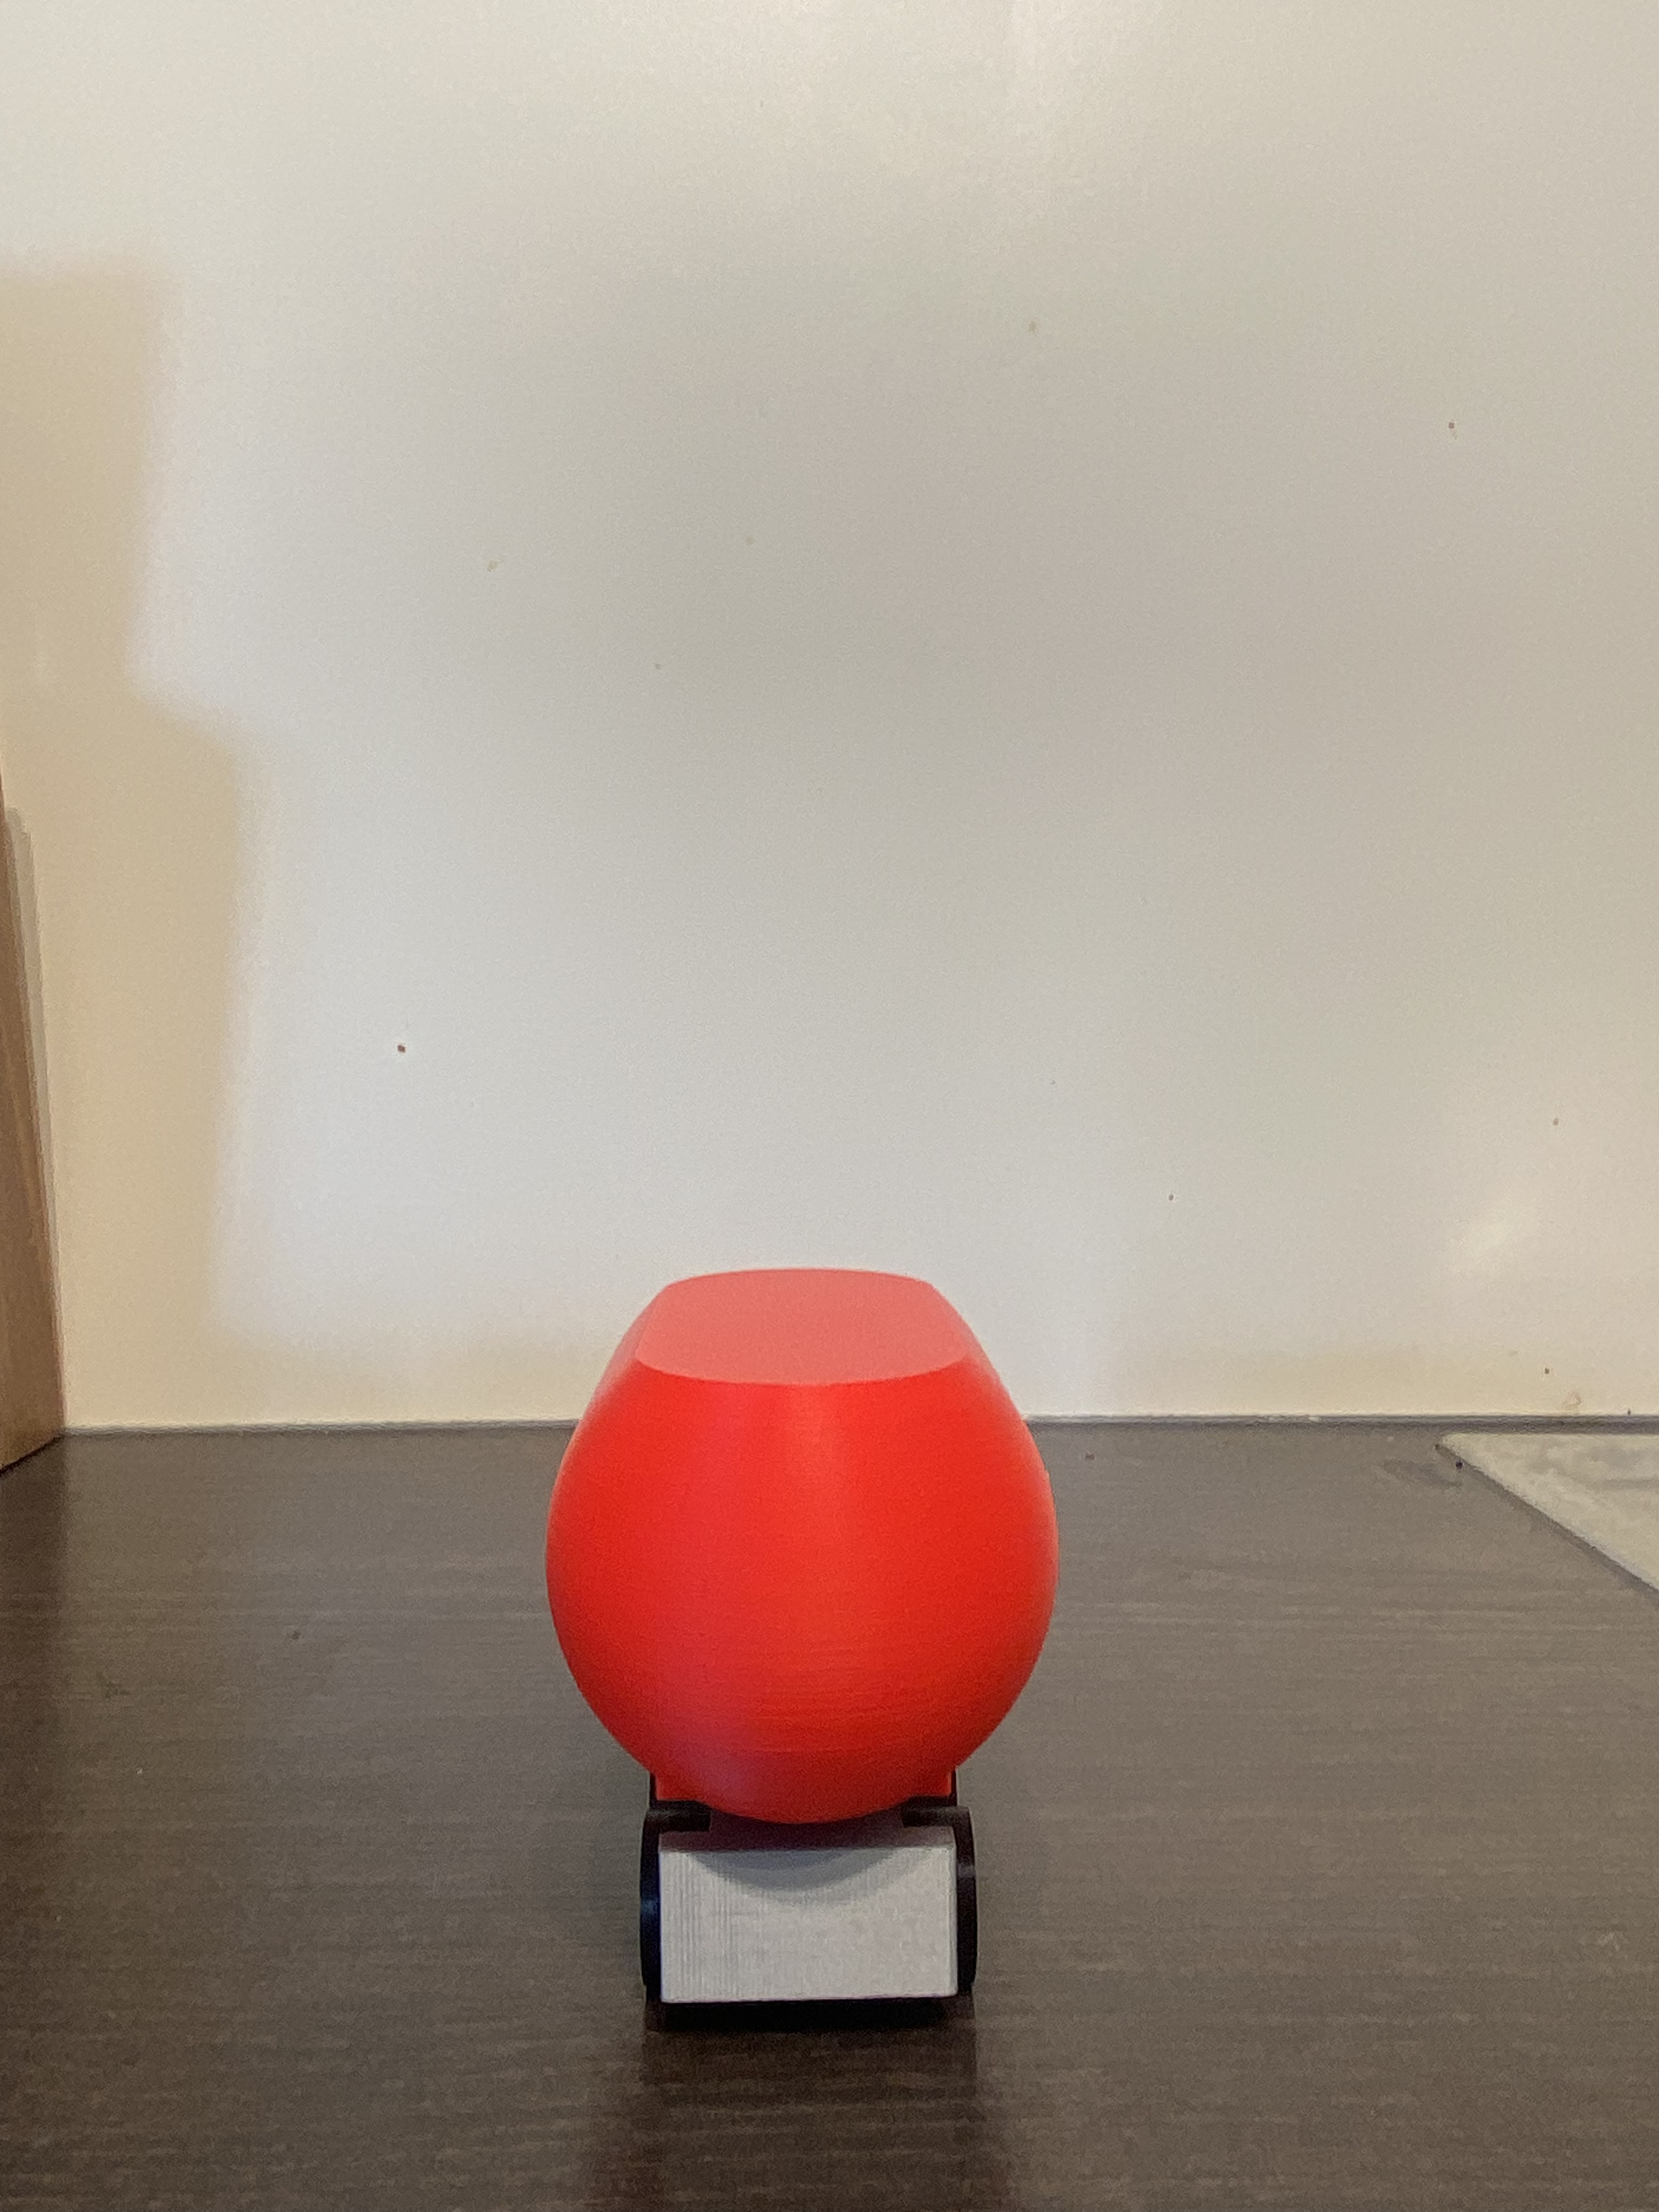red_truck: (427, 1385, 1183, 1907)
